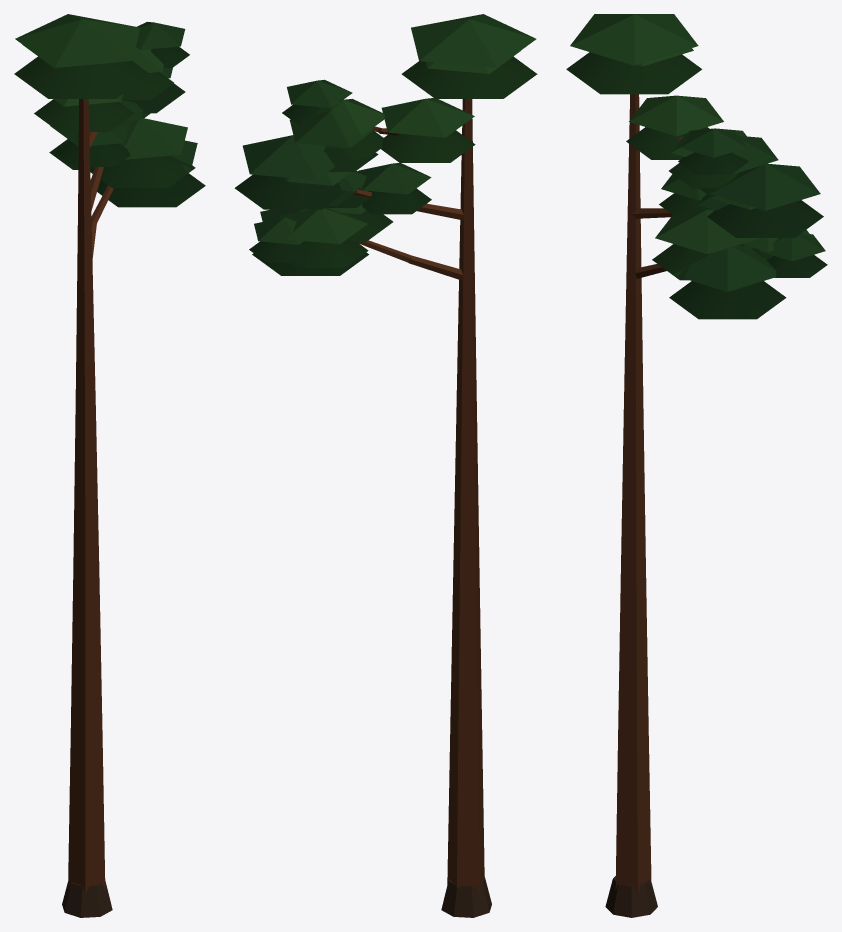
The model's file is tree_pine_2_far.glb.
3 renders of one model, left to right at view 1: azimuth 30°, elevation 25°; view 2: azimuth 150°, elevation 25°; view 3: azimuth 270°, elevation 25°, orthographic.
Parts seen in each view (by area): view 1: leaf, wood; view 2: leaf, wood; view 3: leaf, wood.
Boxes of the visible parts, x1=… form: leaf: x1=14, y1=14, x2=205, y2=207; wood: x1=62, y1=99, x2=113, y2=917; leaf: x1=234, y1=14, x2=537, y2=275; wood: x1=353, y1=99, x2=491, y2=917; leaf: x1=566, y1=14, x2=827, y2=319; wood: x1=605, y1=94, x2=682, y2=917.
Size of the model in its own units: 3.94 by 15.67 by 4.17.
